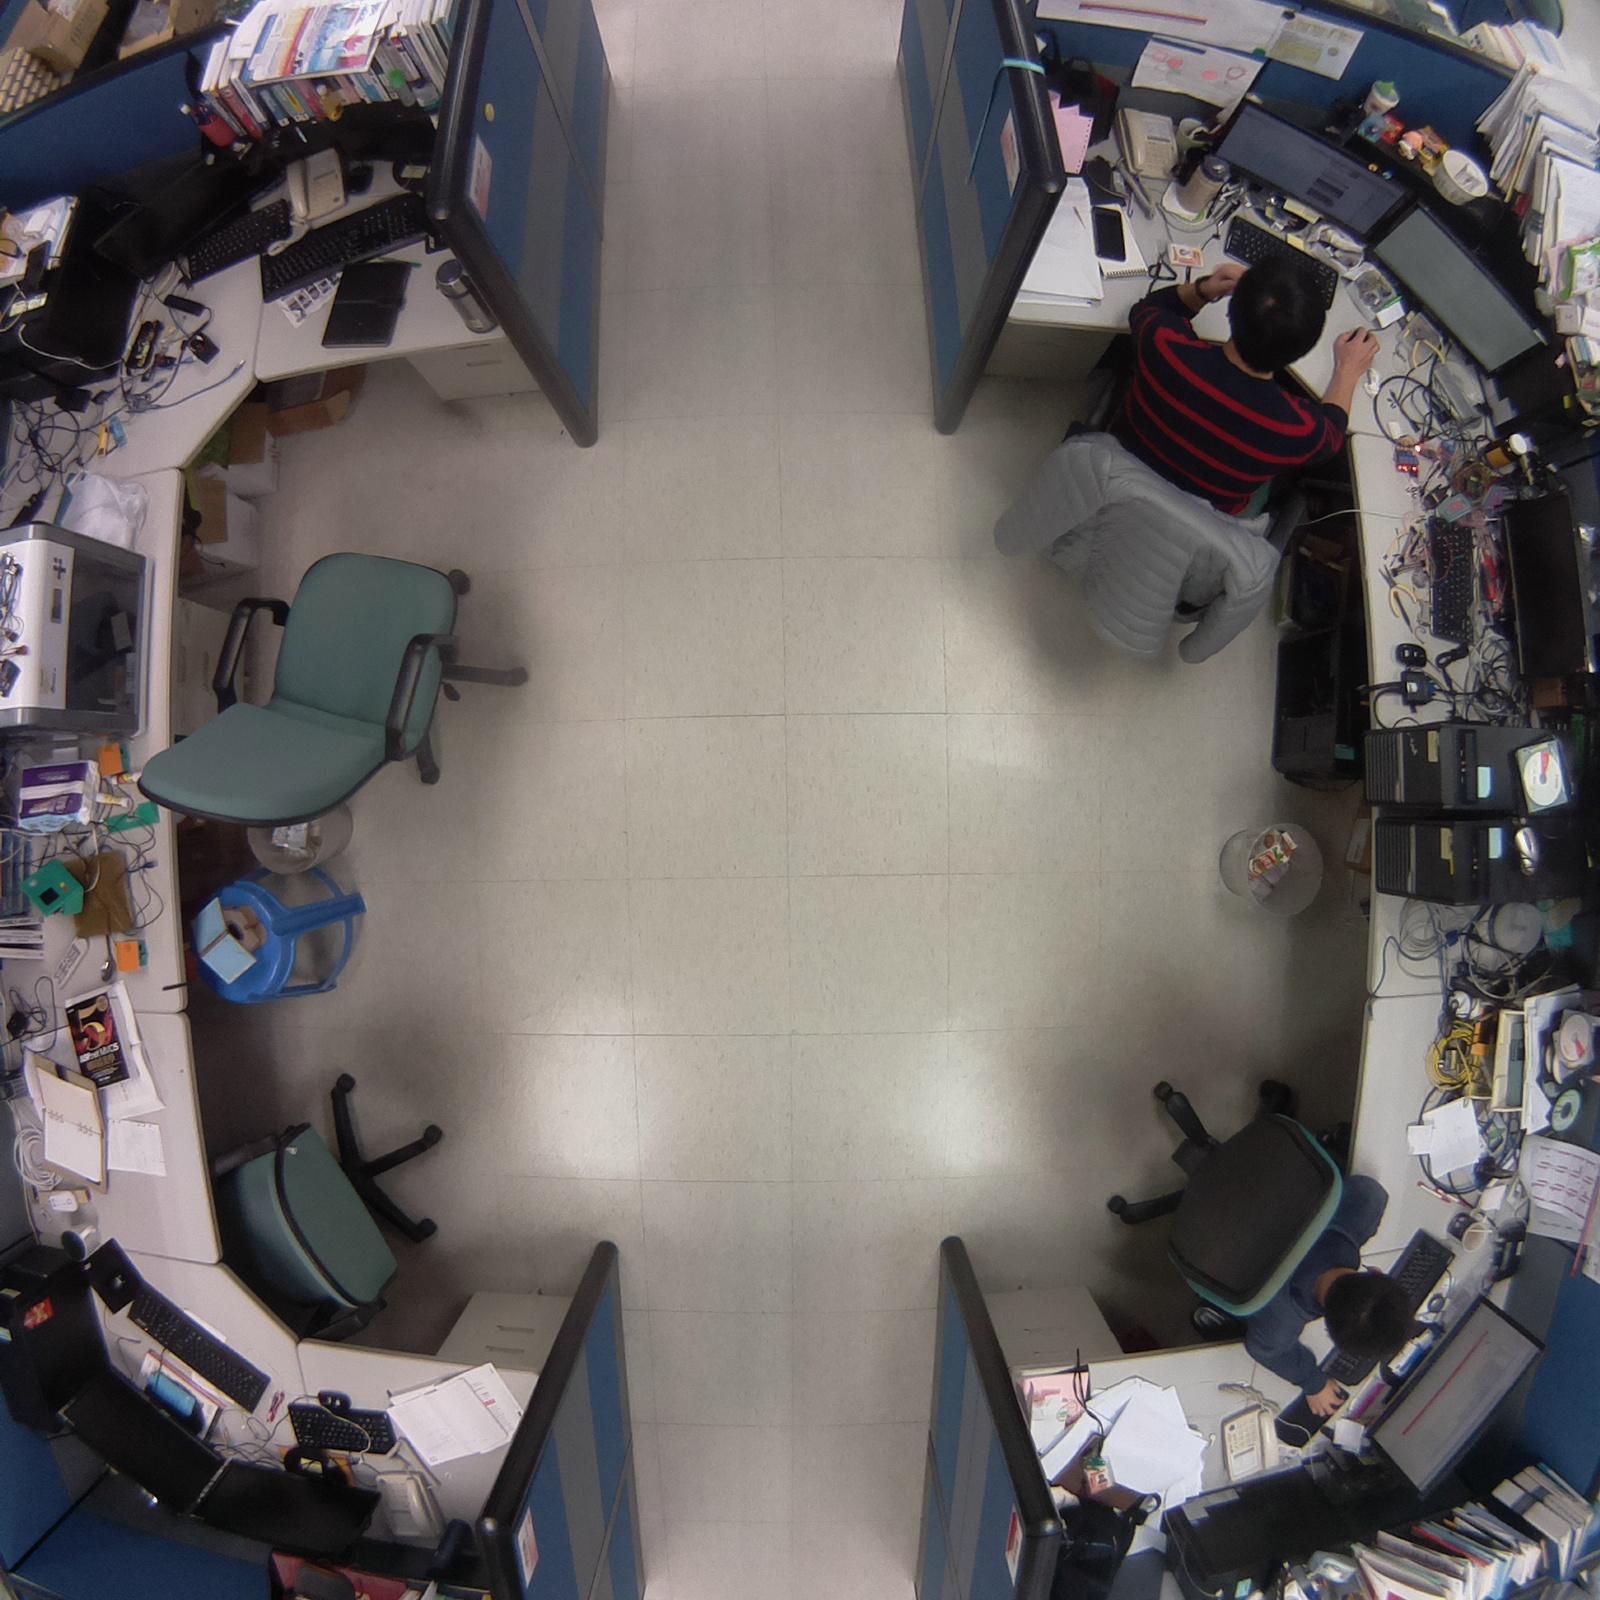chair: (119, 532, 555, 845), (206, 1050, 491, 1345)
head: (1225, 257, 1336, 374), (1323, 1257, 1421, 1365)
sitting: (981, 246, 1379, 683), (1094, 1045, 1433, 1424)
